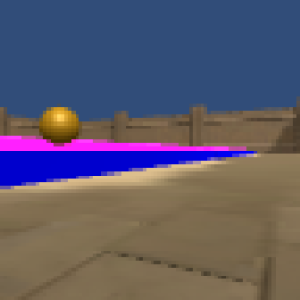goodGoalMulti: (40, 106, 81, 146)
platform: (1, 150, 257, 183)
ramp: (1, 135, 229, 151)
